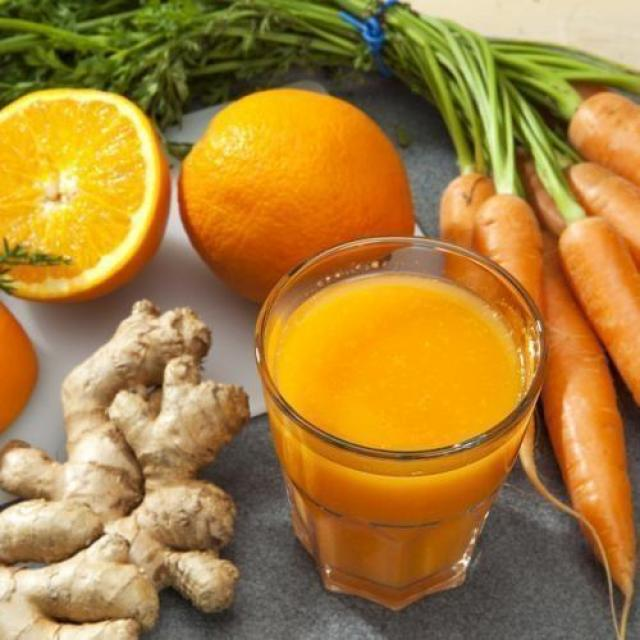glass-normal: (252, 235, 547, 606)
